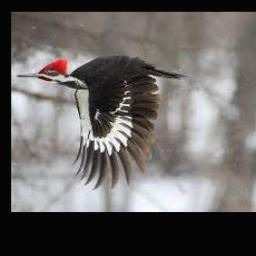Woodpecker: (16, 56, 186, 188)
